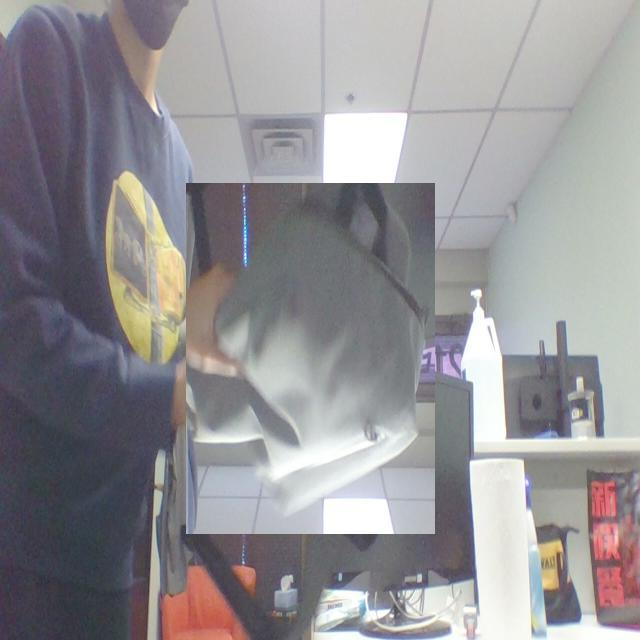Backpacks: (186, 183, 436, 535)
